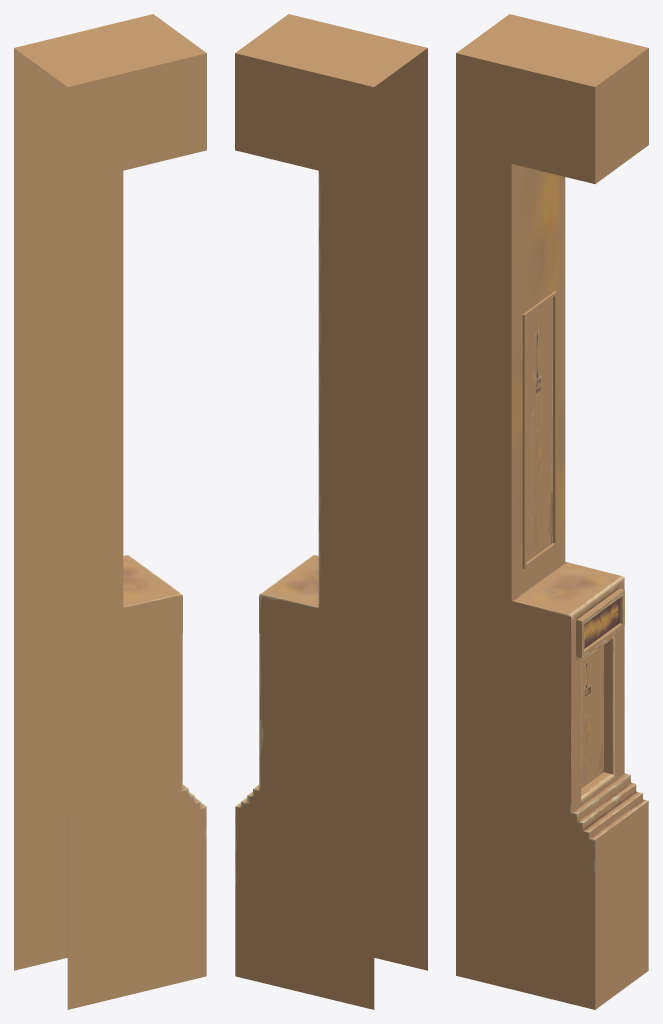
Rendered from sand_stone_north_door.obj.
The picture shows the model from 3 angles, left to right: view 1: azimuth 30°, elevation 25°; view 2: azimuth 150°, elevation 25°; view 3: azimuth 330°, elevation 25°; orthographic projection.
Visible parts, largest first — view 1: Plane; view 2: Plane; view 3: Plane, Plane.001, Plane.002.
Part boxes in pixels (x1,y1,x2,y2): Plane: (14,14,206,1009); Plane: (235,14,427,1009); Plane: (456,14,648,1009); Plane.001: (526,298,552,562); Plane.002: (581,645,603,788).
Bounding box in the file's own units: 1.5 × 9.5 × 1.
1 material, 1 textured.
